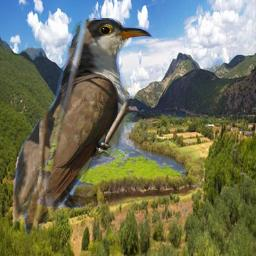Cuckoo: (13, 18, 186, 235)
